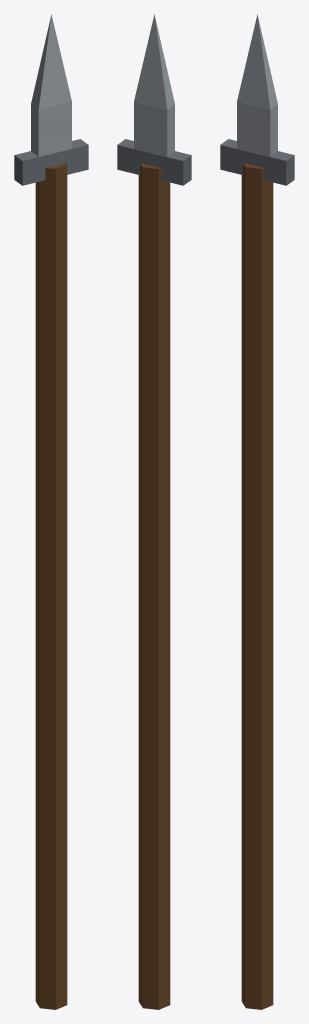
File: gear_javelin.glb
The picture shows the model from 3 angles, left to right: view 1: azimuth 30°, elevation 25°; view 2: azimuth 150°, elevation 25°; view 3: azimuth 330°, elevation 25°; orthographic projection.
Visible parts, largest first — view 1: gear_javelin; view 2: gear_javelin; view 3: gear_javelin.
Part boxes in pixels (x1,y1,x2,y2): gear_javelin: (14,14,88,1009); gear_javelin: (117,14,191,1009); gear_javelin: (220,14,294,1009).
Size of the model in its own units: 0.084 by 1.2 by 0.0348.
